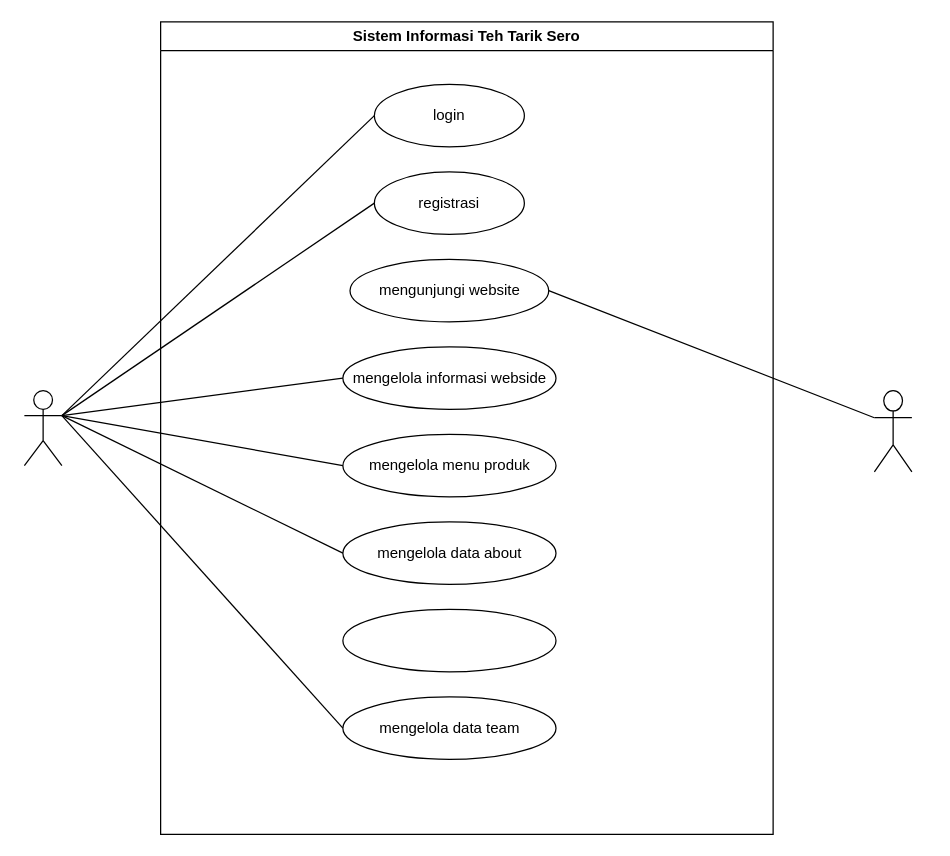
Some shapes in this 950 by 856 pixel diagram are drawn without their labels. The shapes that lost their labels are listed below. From the top down, each one's centre as x and y in pixels, then its label:
the point at 42,427: Admin
the point at 892,430: Pelanggan
the point at 449,640: mengelola data contact
